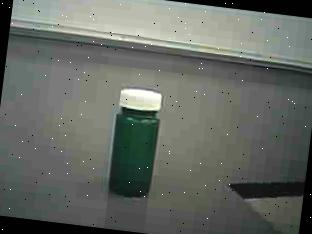Bottle C: (95, 79, 180, 209)
